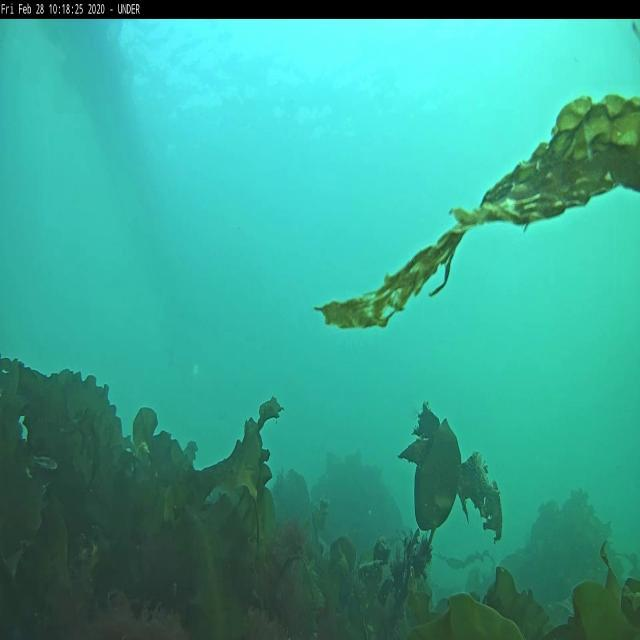fish: (35, 453, 58, 471)
